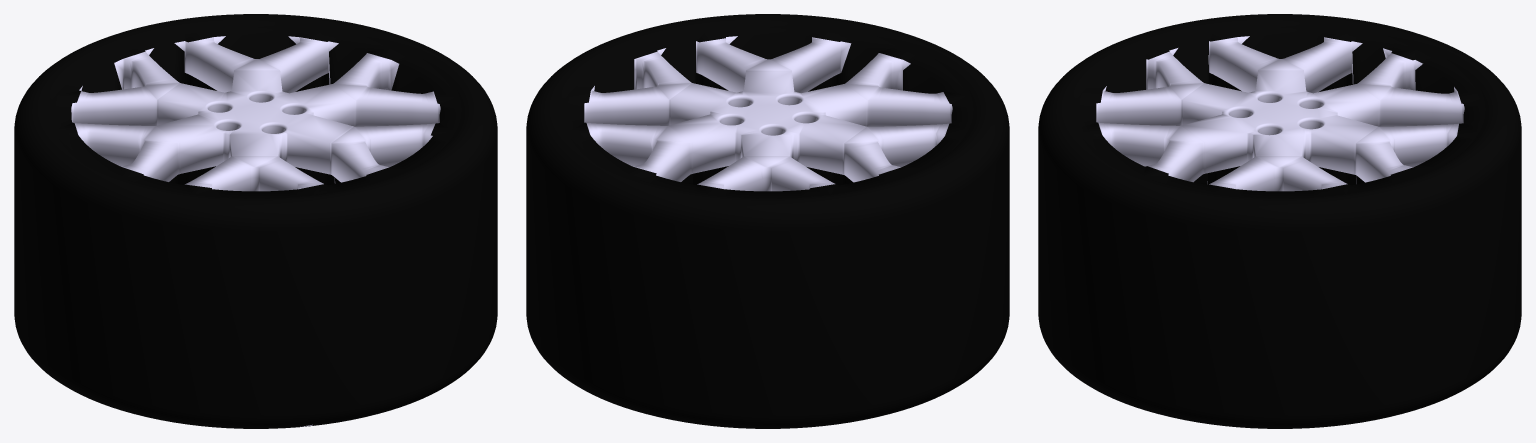
The model's file is robo_wheel.dae.
The picture shows the model from 3 angles, left to right: view 1: azimuth 30°, elevation 25°; view 2: azimuth 150°, elevation 25°; view 3: azimuth 270°, elevation 25°; orthographic projection.
Parts seen in each view (by area): view 1: wheels v1; view 2: wheels v1; view 3: wheels v1.
Part boxes in pixels (x1,y1,x2,y2): wheels v1: [14, 14, 497, 428]; wheels v1: [526, 14, 1009, 428]; wheels v1: [1038, 14, 1521, 428].
Size of the model in its own units: 0.2078 by 0.2077 by 0.1072.
